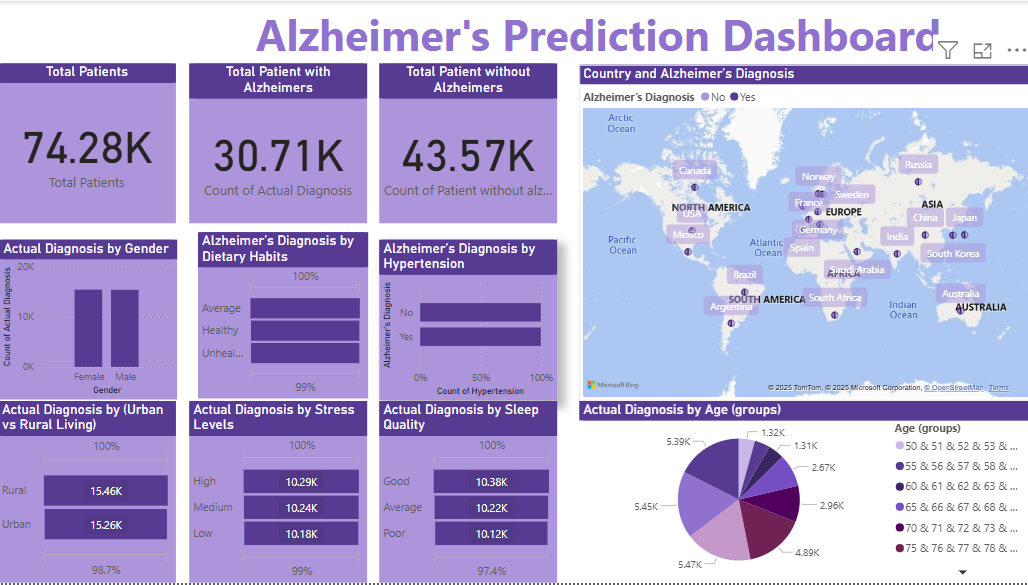

This screenshot's page, from the dashboard's own definition file:
{"tool":"powerbi","page":{"name":"Page 1","canvas":[1280,720],"ordinal":0},"visuals":[{"type":"textbox","box":[256.9,0,972.3,92.3],"z":0},{"type":"card","title":"Total Patients","fields":{"Values":["CountNonNull(alzheimers_prediction_dataset.Age)"]},"box":[0,78.1,220,197.3],"z":1000},{"type":"card","title":"Total Patient with Alzheimers","fields":{"Values":["CountNonNull(alzheimers_prediction_dataset.Actual Diagnosis)"]},"box":[237,78.1,220,197.3],"z":2000},{"type":"card","title":"Total Patient without Alzheimers","fields":{"Values":["CountNonNull(alzheimers_prediction_dataset.Patient without alzheimer)"]},"box":[471.2,78.1,220,197.3],"z":3000},{"type":"clusteredColumnChart","title":"Actual Diagnosis by Gender","fields":{"Category":["alzheimers_prediction_dataset.Gender"],"Y":["CountNonNull(alzheimers_prediction_dataset.Actual Diagnosis)"]},"box":[1.4,295.2,220,197.3],"z":4000},{"type":"map","fields":{"Category":["alzheimers_prediction_dataset.Country"],"Series":["alzheimers_prediction_dataset.Alzheimer’s Diagnosis"]},"box":[719,79.5,561.3,415.8],"z":5000},{"type":"hundredPercentStackedBarChart","title":" Alzheimer’s Diagnosis by Hypertension","fields":{"Y":["CountNonNull(alzheimers_prediction_dataset.Hypertension)"],"Category":["alzheimers_prediction_dataset.Alzheimer’s Diagnosis"]},"box":[471.2,295.2,220,198.7],"z":6000},{"type":"funnel","title":"Actual Diagnosis by Stress Levels","fields":{"Category":["alzheimers_prediction_dataset.Stress Levels"],"Y":["CountNonNull(alzheimers_prediction_dataset.Actual Diagnosis)"]},"box":[237,494,220,225],"z":7000},{"type":"funnel","title":"Actual Diagnosis by Sleep Quality","fields":{"Y":["CountNonNull(alzheimers_prediction_dataset.Actual Diagnosis)"],"Category":["alzheimers_prediction_dataset.Sleep Quality"]},"box":[470.8,495.2,220.1,225],"z":8000},{"type":"funnel","title":"Actual Diagnosis by (Urban vs Rural Living)","fields":{"Y":["CountNonNull(alzheimers_prediction_dataset.Actual Diagnosis)"],"Category":["alzheimers_prediction_dataset.Urban vs Rural Living"]},"box":[0,495.2,220.1,225],"z":9000},{"type":"funnel","title":"Alzheimer’s Diagnosis by Dietary Habits","fields":{"Category":["alzheimers_prediction_dataset.Dietary Habits"],"Y":["CountNonNull(alzheimers_prediction_dataset.Alzheimer’s Diagnosis)"]},"box":[247,286.1,210.3,205.4],"z":10000},{"type":"pieChart","title":"Actual Diagnosis by Age (groups)","fields":{"Category":["alzheimers_prediction_dataset.Age (groups)"],"Y":["CountNonNull(alzheimers_prediction_dataset.Actual Diagnosis)"]},"box":[719,495,561,225],"z":11000}]}

Visuals, with their boxes in screenshot pixels (x1, y1, x2, y2):
textbox: [200, 0, 999, 70]
"Total Patients" card: [0, 59, 170, 221]
"Total Patient with Alzheimers" card: [184, 59, 365, 221]
"Total Patient without Alzheimers" card: [376, 59, 557, 221]
"Actual Diagnosis by Gender" clusteredColumnChart: [0, 237, 171, 399]
map - alzheimers_prediction_dataset.Country x alzheimers_prediction_dataset.Alzheimer’s Diagnosis: [580, 60, 1027, 401]
" Alzheimer’s Diagnosis by Hypertension" hundredPercentStackedBarChart: [376, 237, 557, 400]
"Actual Diagnosis by Stress Levels" funnel: [184, 400, 365, 584]
"Actual Diagnosis by Sleep Quality" funnel: [376, 401, 557, 584]
"Actual Diagnosis by (Urban vs Rural Living)" funnel: [0, 401, 170, 584]
"Alzheimer’s Diagnosis by Dietary Habits" funnel: [192, 230, 365, 398]
"Actual Diagnosis by Age (groups)" pieChart: [580, 401, 1027, 584]
